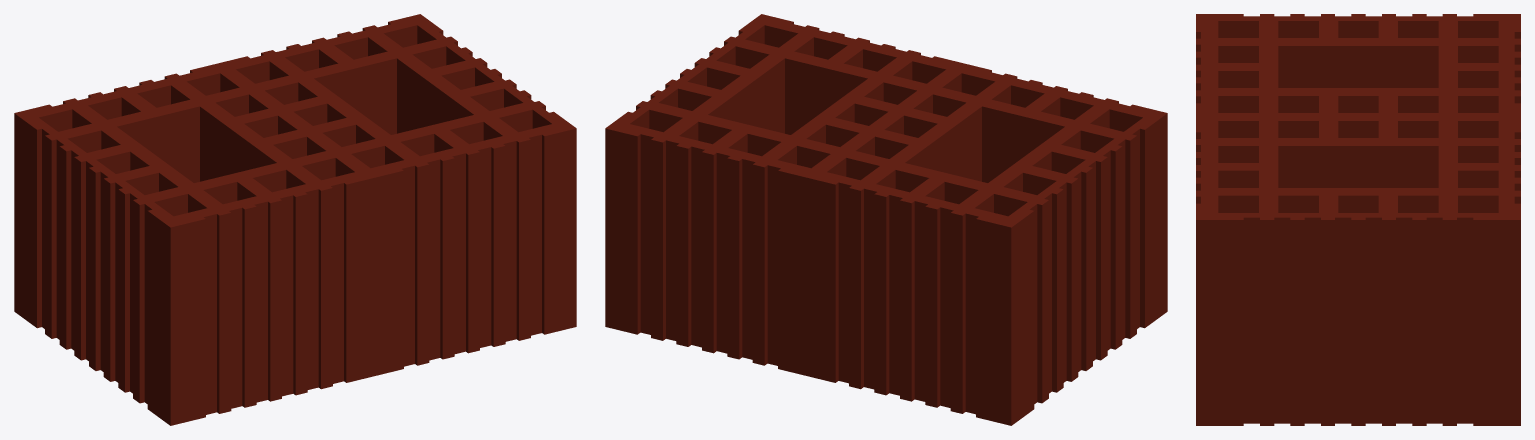
File: brick-001.fbx
3 views of the same model, side by side, from view 1: azimuth 30°, elevation 25°; view 2: azimuth 150°, elevation 25°; view 3: azimuth 270°, elevation 25° (orthographic). The views are drawn at different scales.
Parts seen in each view (by area): view 1: brick-001; view 2: brick-001; view 3: brick-001.
Boxes of the visible parts, x1,y1,x2,y2 form: brick-001: (14, 14, 576, 425); brick-001: (605, 14, 1167, 425); brick-001: (1196, 14, 1520, 425).
Size of the model in its own units: 300 by 140 by 200.
